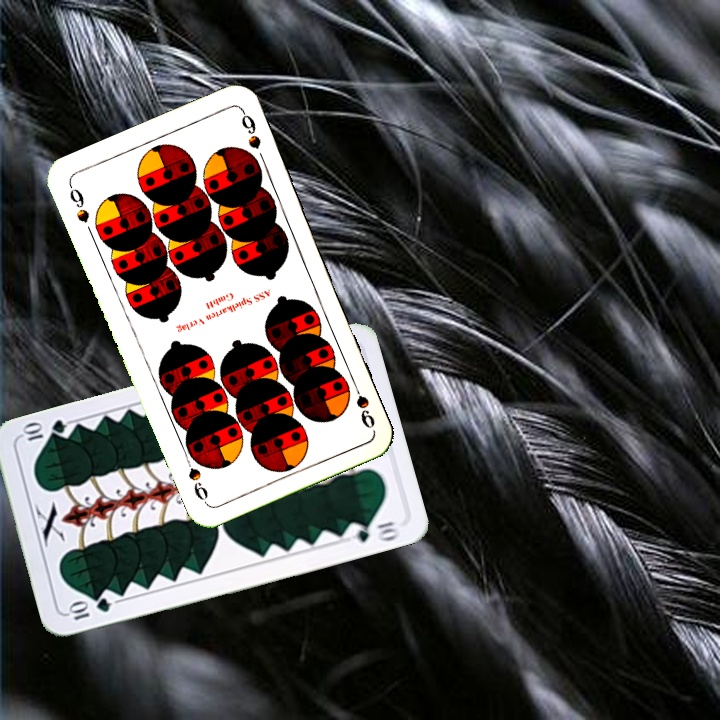G10: (63, 593, 114, 623)
S9: (347, 374, 378, 432), (65, 180, 92, 225)
